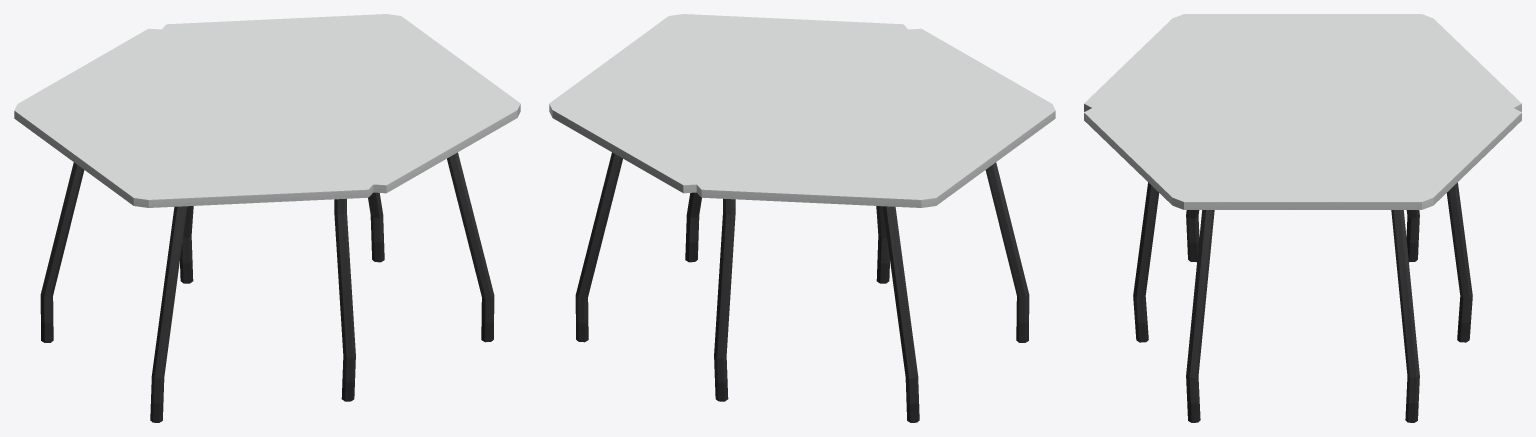
File: 梯形桌.obj
3 views of the same model, side by side, from view 1: azimuth 30°, elevation 25°; view 2: azimuth 150°, elevation 25°; view 3: azimuth 270°, elevation 25° (orthographic).
Bounding box in the file's own units: 141 × 81.37 × 139.
